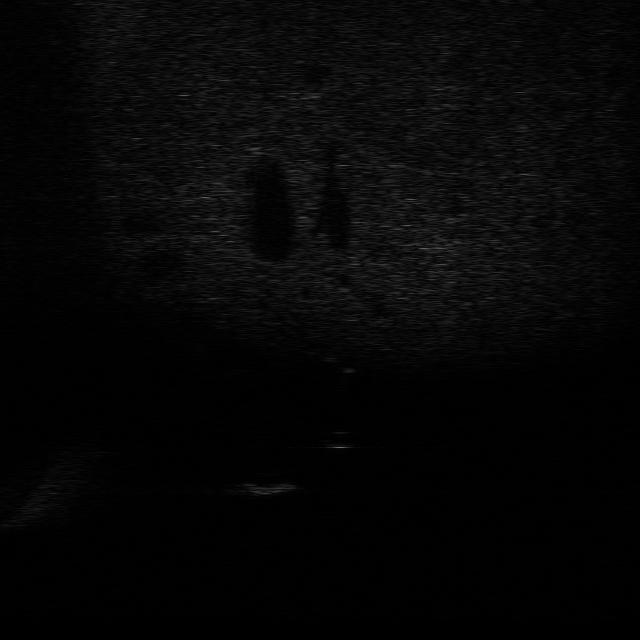ball: (320, 428, 359, 452)
human body: (305, 342, 356, 402)
square cage: (236, 467, 300, 498)
